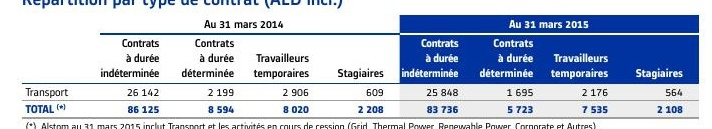table: (0, 0, 712, 129)
